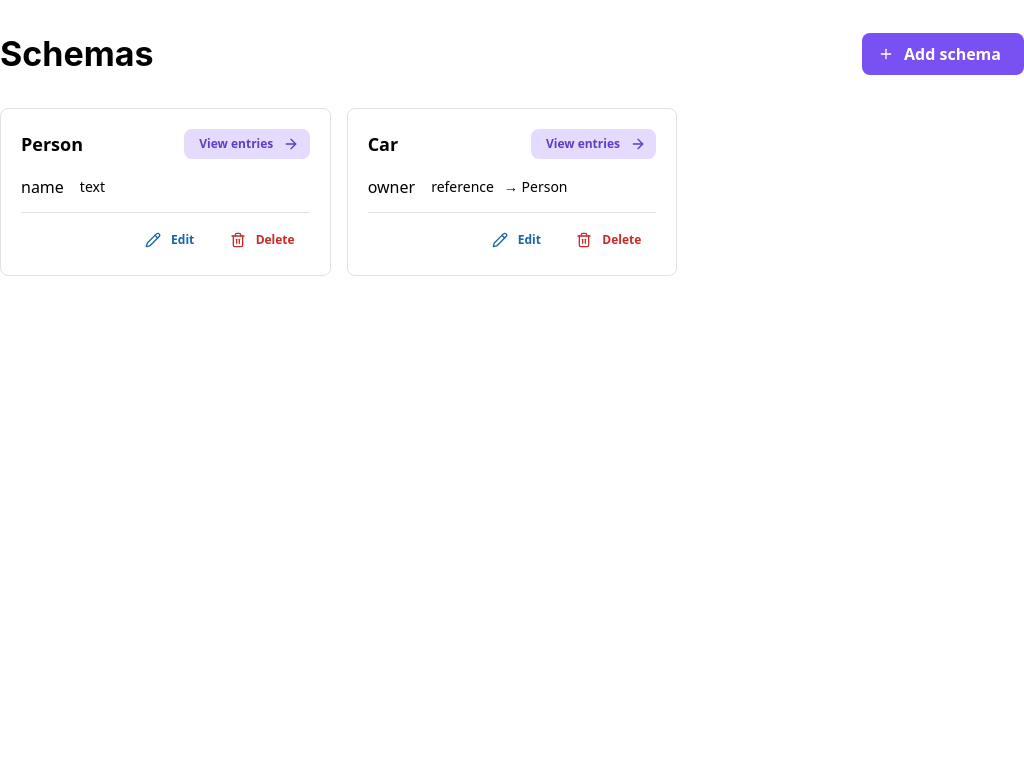
Test: SchemaList › previews the deletion impact, then deletes the schema after confirming and refreshes the list
Expected: the text "Person" is shown, [21,130,83,159]
Click the button "Delete" below "name".
click(264, 240)  # box [219,225,310,255]
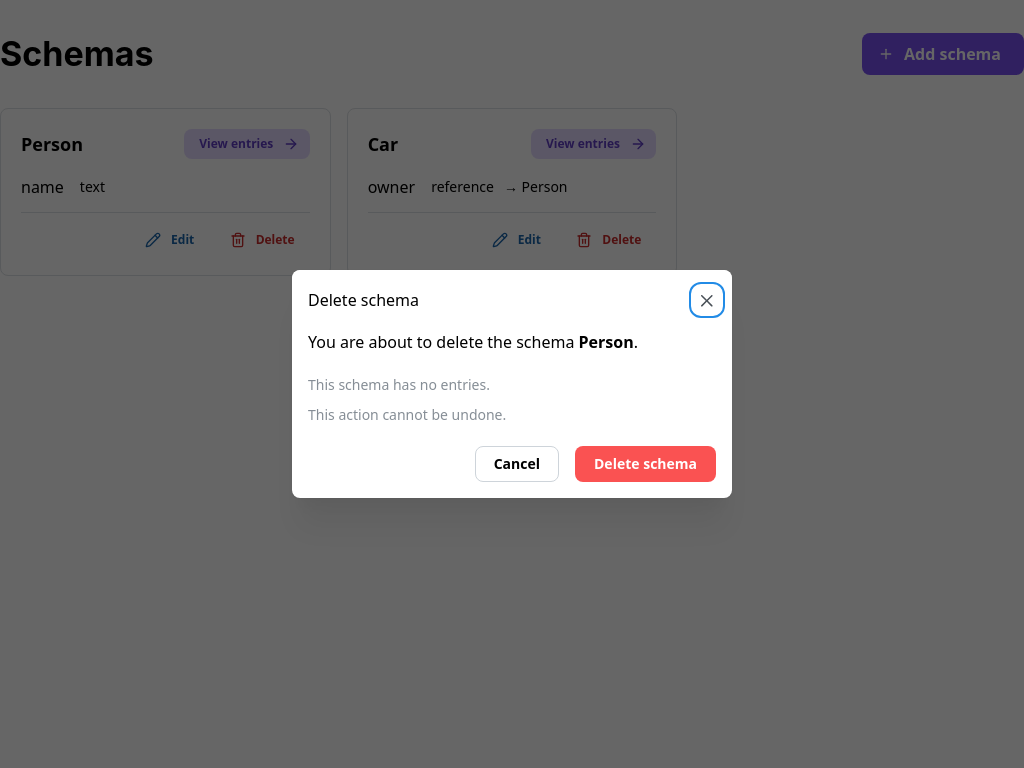
Now the text "This schema has no entries." is shown, box [308,375,490,394]
Click the button "Delete schema".
click(646, 464)  # box [575,446,716,482]
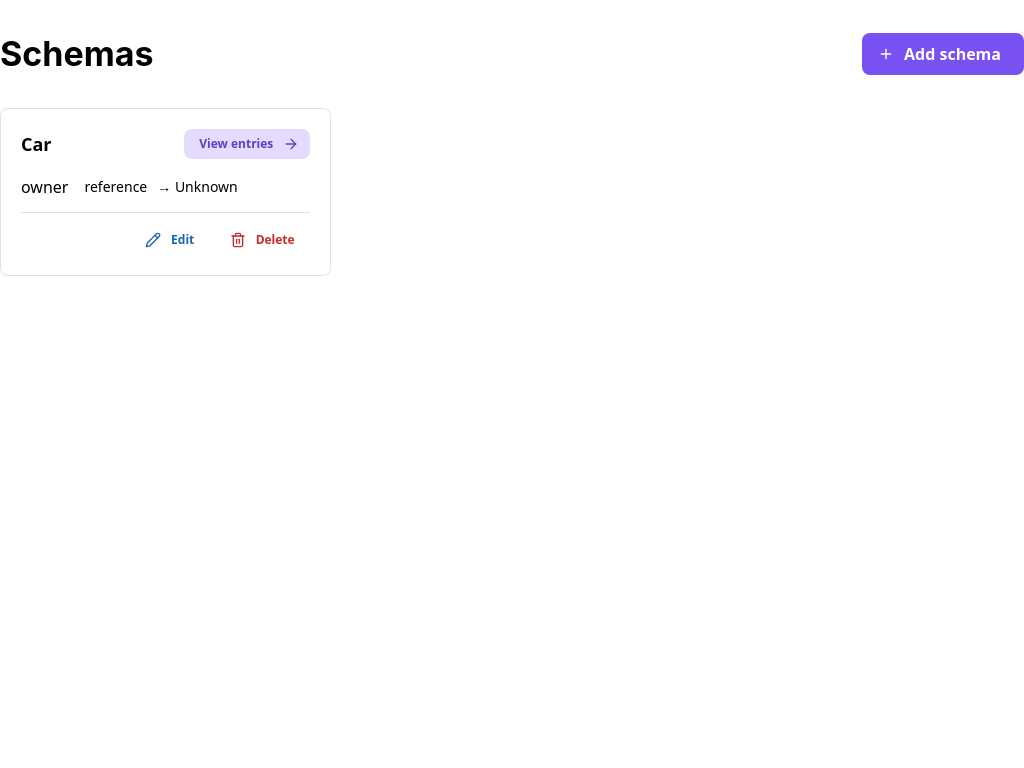
Now the text "Person" is gone
